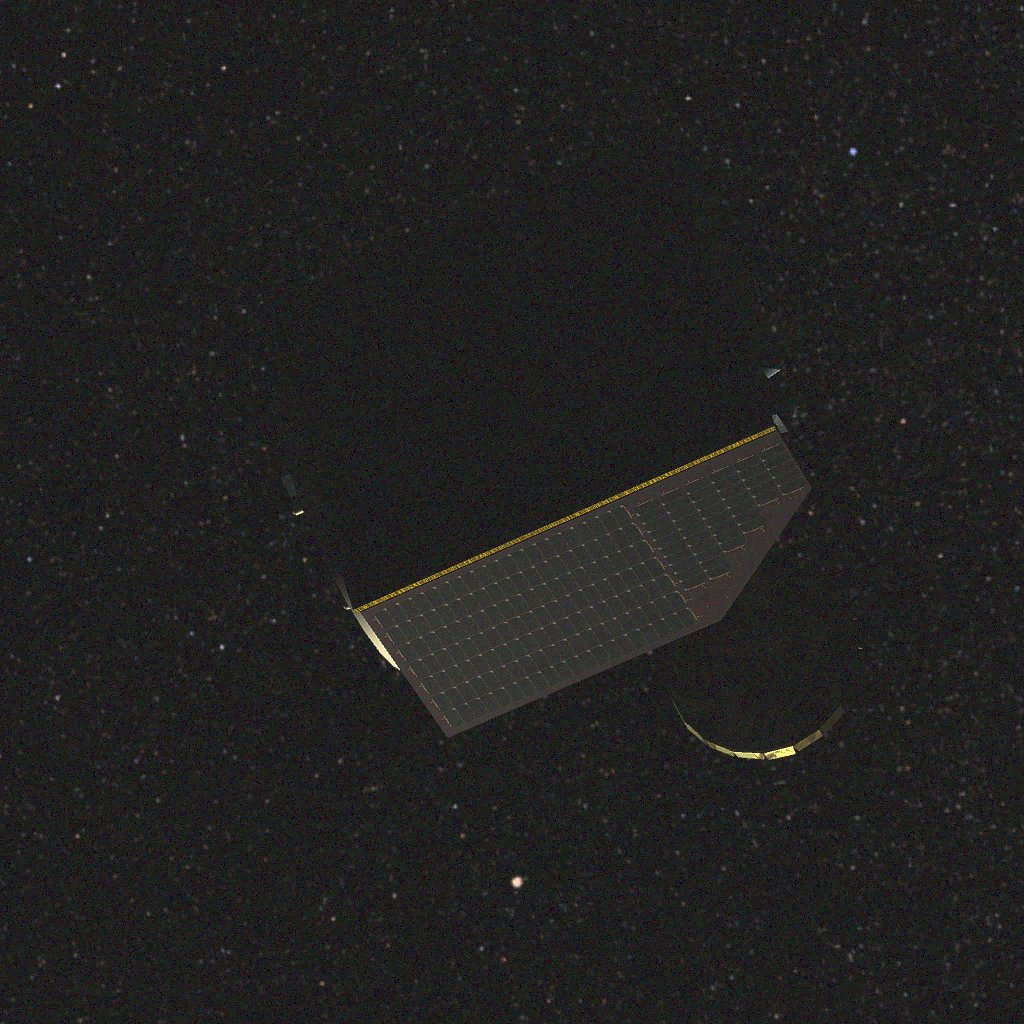cheops: (254, 124, 863, 760)
